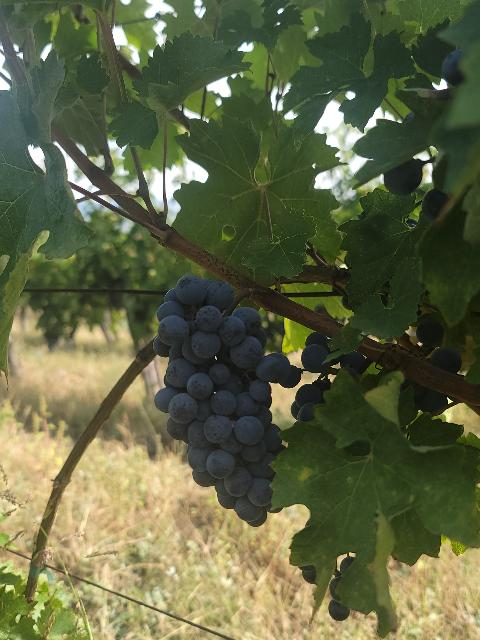grapes: (154, 275, 291, 526)
